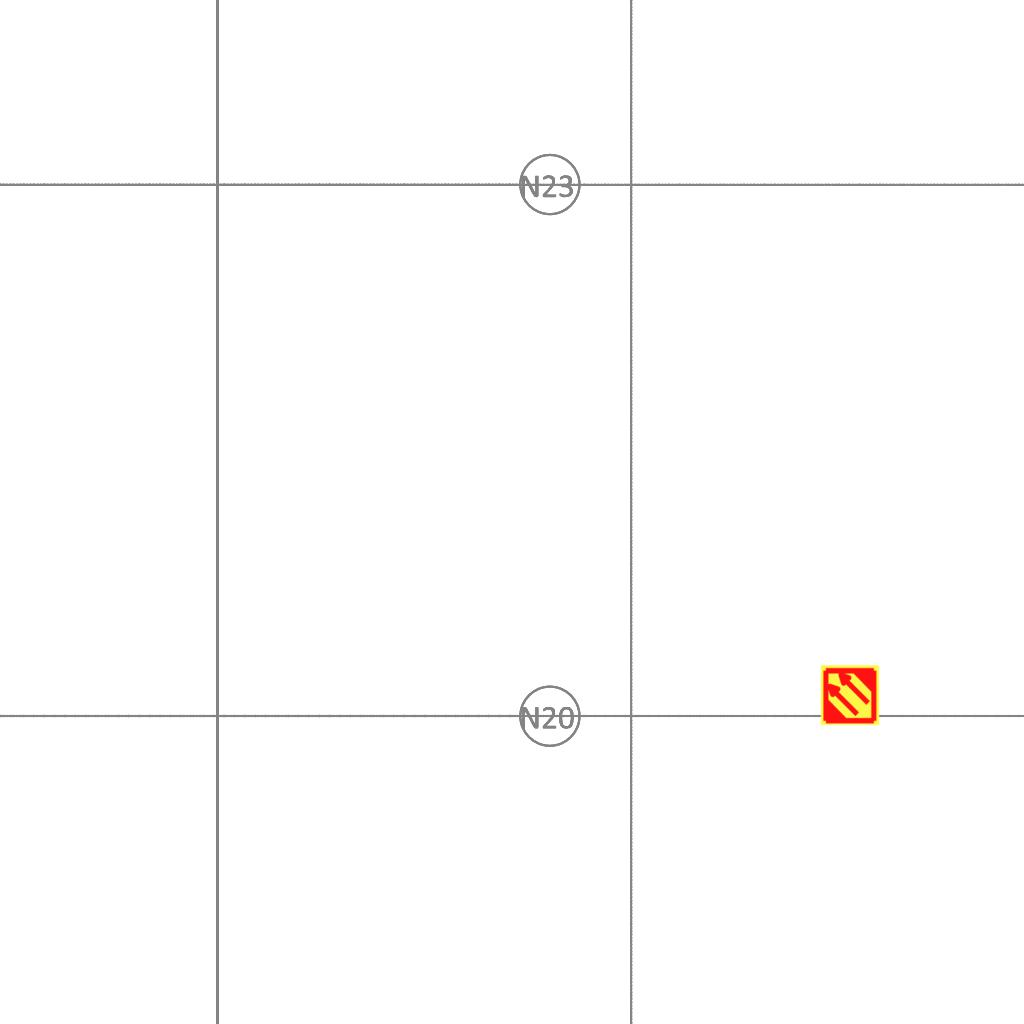ASR_Ansaugrauchmelder: (819, 664, 881, 726)
